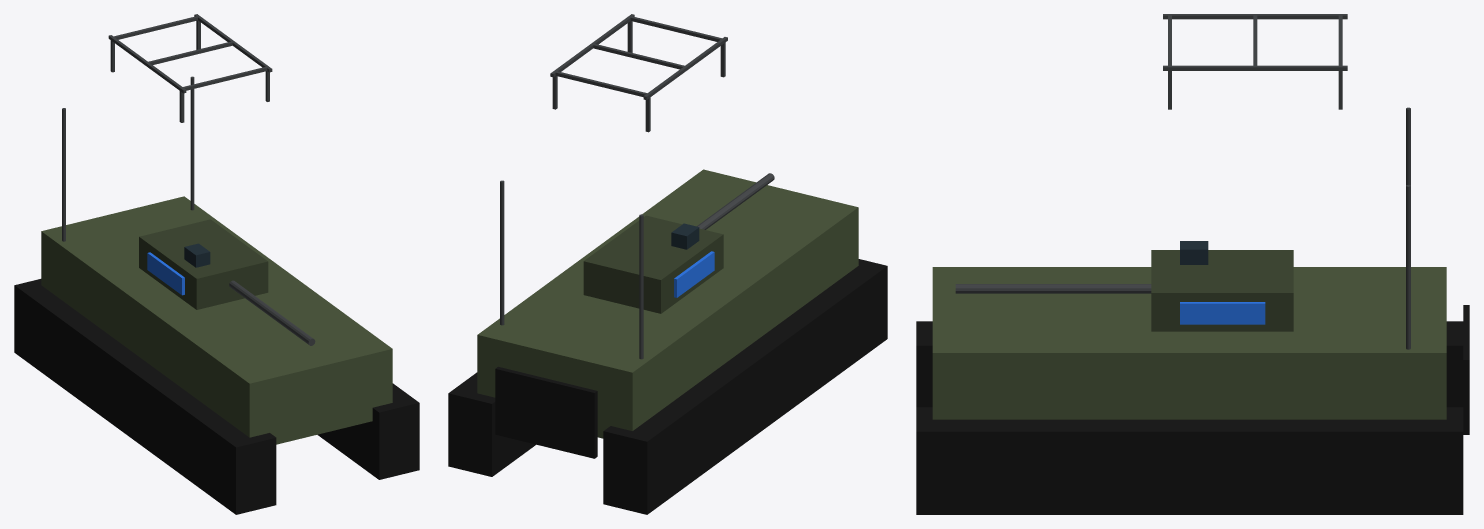
The model's file is kp_ifv.glb.
3 views of the same model, side by side, from view 1: azimuth 30°, elevation 25°; view 2: azimuth 150°, elevation 25°; view 3: azimuth 270°, elevation 25° (orthographic). The views are drawn at different scales.
Visible parts, largest first — view 1: hull, track_l, turret, track_r, upg_cage, barrel, team_panel_l, whip_1, whip_0, sight; view 2: hull, track_l, turret, rear_door, track_r, upg_cage, team_panel_l, barrel, whip_0, whip_1, sight; view 3: hull, track_r, turret, upg_cage, track_l, team_panel_r, barrel, rear_door, whip_1, sight.
Boxes of the visible parts, x1,y1,x2,y2 form: hull: (41, 196, 392, 444); track_l: (14, 279, 276, 514); turret: (139, 219, 268, 309); track_r: (317, 383, 419, 479); upg_cage: (108, 14, 272, 122); barrel: (229, 280, 315, 345); team_panel_l: (147, 252, 184, 295); whip_1: (190, 76, 194, 210); whip_0: (62, 108, 65, 241); sight: (184, 243, 210, 267); hull: (477, 169, 858, 438); track_l: (603, 259, 887, 514); turret: (583, 215, 723, 313); rear_door: (495, 366, 597, 458); track_r: (448, 372, 535, 476); upg_cage: (550, 14, 727, 132); team_panel_l: (674, 251, 714, 297); barrel: (697, 173, 774, 229); whip_0: (639, 214, 643, 359); whip_1: (500, 180, 504, 325); sight: (671, 223, 699, 249); hull: (932, 267, 1446, 419); track_r: (916, 407, 1463, 514); turret: (1151, 250, 1293, 331); upg_cage: (1163, 14, 1347, 109); track_l: (916, 321, 1463, 407); team_panel_r: (1180, 302, 1265, 324); barrel: (955, 284, 1151, 293); rear_door: (1463, 305, 1469, 434); whip_1: (1406, 185, 1410, 349); sight: (1180, 241, 1208, 264).
Size of the model in its own units: 3.2 by 5.67 by 6.78.
